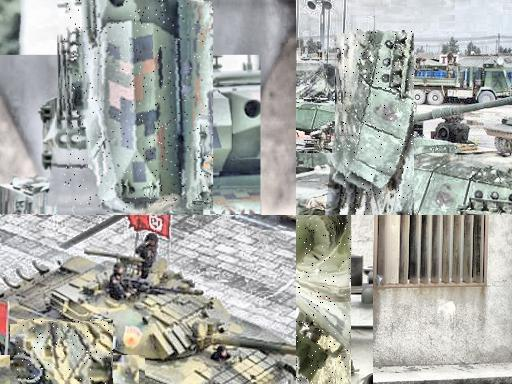tanks: (1, 252, 297, 384), (64, 1, 214, 213), (297, 98, 512, 173), (343, 30, 415, 216), (297, 216, 352, 384), (19, 321, 114, 384)
